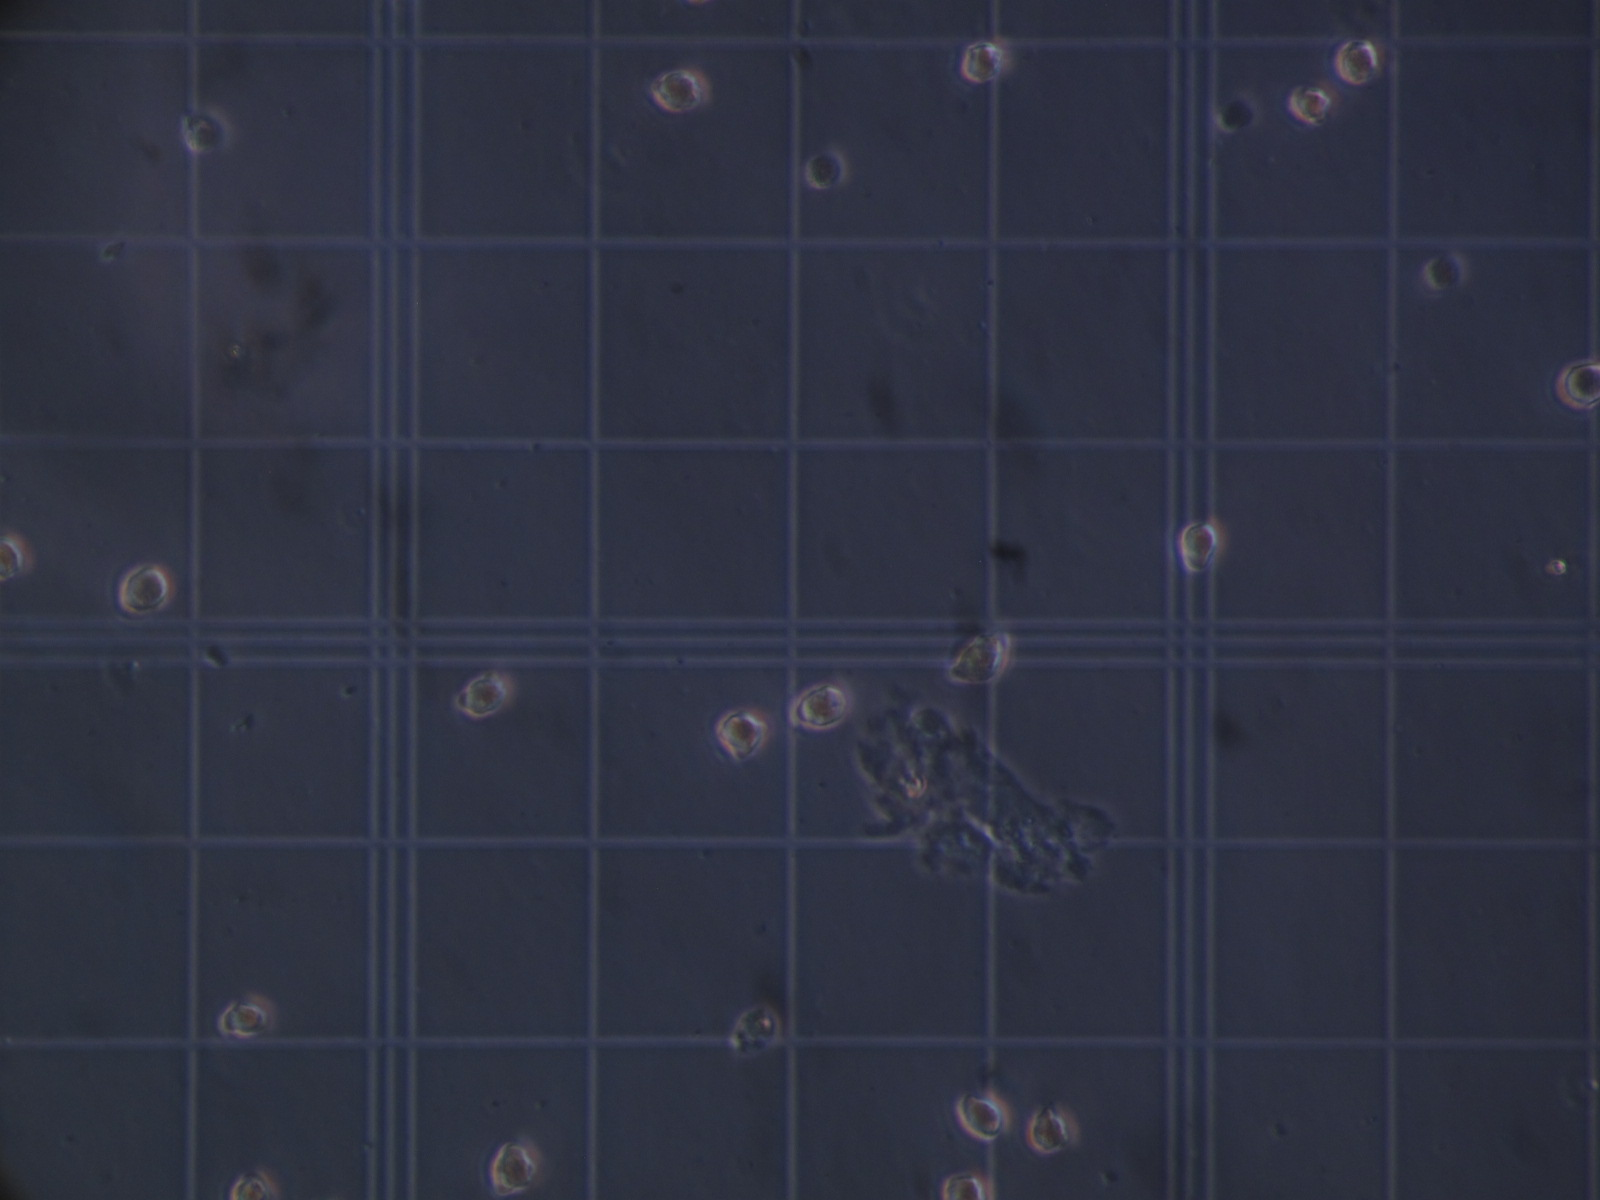hemo: (787, 682, 852, 731), (956, 1087, 1010, 1142), (118, 563, 175, 615), (950, 633, 1008, 683), (651, 64, 712, 112), (489, 1139, 538, 1194), (717, 708, 769, 759), (731, 1006, 782, 1056), (1028, 1104, 1078, 1153), (180, 105, 232, 153), (1553, 358, 1600, 411), (219, 995, 275, 1037), (963, 39, 1013, 84), (464, 672, 509, 718), (1334, 37, 1378, 84), (1178, 518, 1217, 570), (1421, 250, 1465, 291), (806, 149, 848, 192), (1289, 84, 1330, 125), (227, 1166, 273, 1200), (1, 534, 30, 581), (941, 1172, 991, 1199)
